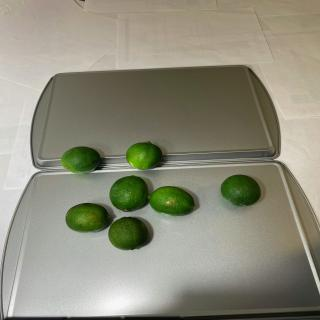Lemon: (109, 175, 148, 212), (148, 186, 195, 216), (220, 174, 261, 207), (65, 203, 110, 233), (108, 217, 148, 250), (61, 146, 100, 174), (126, 141, 162, 170)
